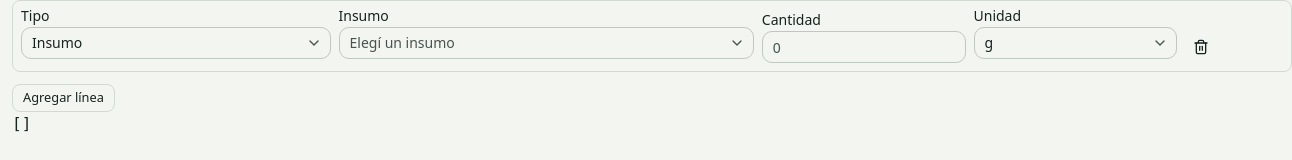
ComponentLinesEditor › cambiar el tipo a «Preparación» ofrece las preparaciones, no los insumos
The image size is (1292, 160).
Click the dropdown named "Tipo": (57, 42) [21,27,330,59]
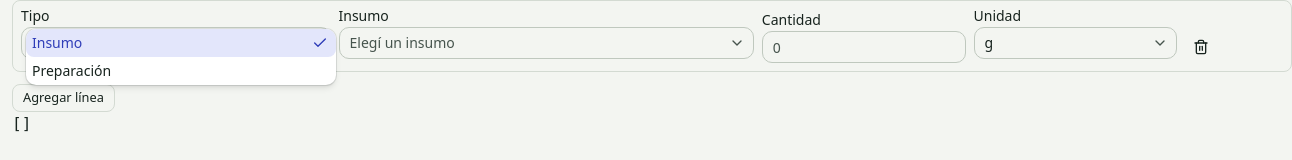
Click the option "Preparación": (72, 70) [32,61,111,80]
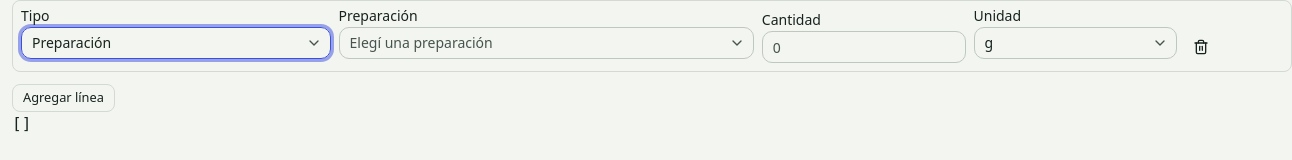
Click the dropdown labelled "preparación": (421, 42) [338,27,754,59]
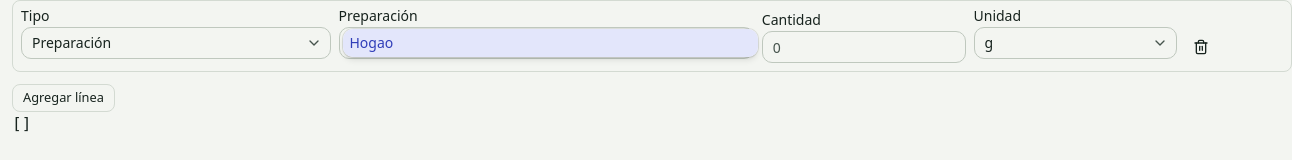
Now the option "Hogao" is shown, box [344,29,758,57]
